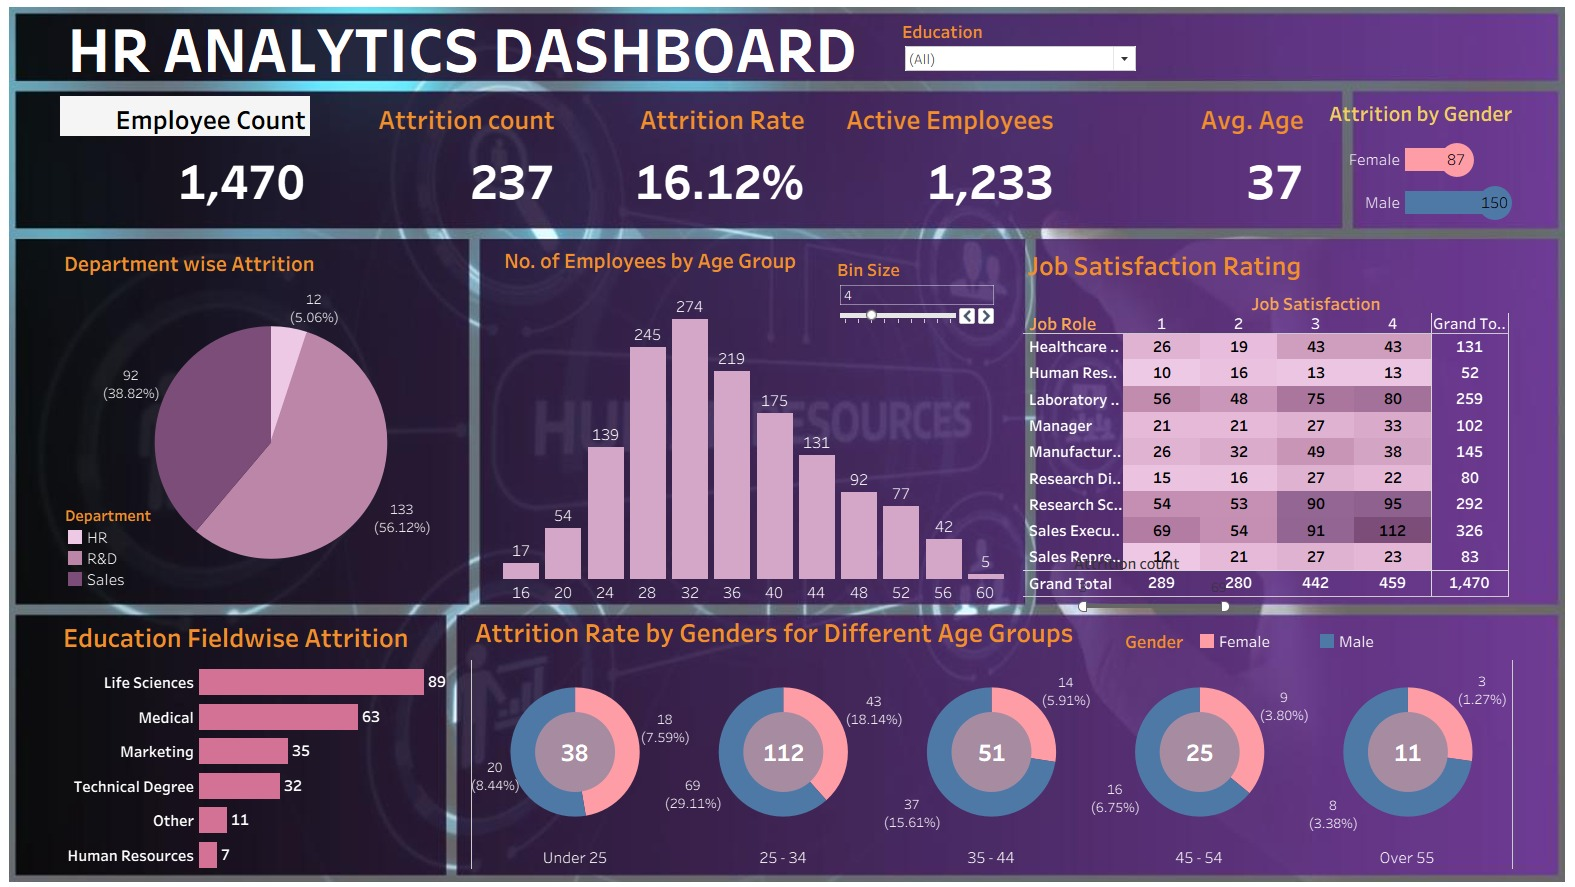

The page's visual inventory and layout, read from the dashboard file:
{"tool":"tableau","page":{"name":"HR ANALYTICS DASHBOARD","canvas":[1000,1000],"units":"permille","ordinal":0},"visuals":[{"type":"image","param":"C:/Users/ASUS/Downloads/HR background.pptx.jpg","box":[5.1,9.4,989.9,981.2]},{"type":"text","box":[42.4,25.8,546.8,64.5]},{"type":"filter","title":"Department wise Attrition","param":"[federated.187kph103az8hl1gv0l2p1qsw0fo].[none:Education:nk]","box":[572.8,27,150,61]},{"type":"worksheet","title":"Attrition by Gender","mark":"Automatic","rows":["Gender"],"cols":["Calculation_0866152895045632","Calculation_0866152895045632"],"box":[840.5,111.5,121.5,143.2]},{"type":"worksheet","title":"KPI","mark":"Automatic","box":[39.9,112.7,789.9,142]},{"type":"worksheet","title":"No. of Employees by Age Group","mark":"Bar","rows":["Employee Count"],"cols":["Age (bin)"],"box":[318.4,274.7,321.5,402.6]},{"type":"worksheet","title":"Job Satisfaction Rating","mark":"Square","rows":["Job Role"],"cols":["Job Satisfaction"],"box":[649.4,277,307.6,392]},{"type":"worksheet","title":"Department wise Attrition","mark":"Pie","box":[39.9,278.2,267.1,390.9]},{"type":"parameter","param":"[Parameters].[Parameter 1]","box":[531.6,291.1,101.3,83.3]},{"type":"legend","title":"Department wise Attrition","param":"[federated.187kph103az8hl1gv0l2p1qsw0fo].[none:Department:nk]","box":[43,566.9,70.2,104.5]},{"type":"filter","title":"Attrition Rate by Genders for Different Age Groups","param":"[federated.187kph103az8hl1gv0l2p1qsw0fo].[sum:Calculation_0866152895045632:qk]","box":[681.6,619.7,101.3,76.3]},{"type":"worksheet","title":"Attrition Rate by Genders for Different Age Groups","mark":"Pie","rows":["Calculation_0866152919699460","Calculation_0866152919699460"],"cols":["CF_age band"],"box":[300,684.3,659.5,287.6]},{"type":"worksheet","title":"Education Fieldwise Attrition","mark":"Automatic","rows":["Education Field"],"cols":["Calculation_0866152895045632"],"box":[39.2,690.1,255.1,284]},{"type":"legend","title":"Attrition Rate by Genders for Different Age Groups","param":"[federated.187kph103az8hl1gv0l2p1qsw0fo].[none:Gender:nk]","box":[713.9,706.6,239.2,35.2]}]}

Visuals, with their boxes on the dashboard's canvas, which has no fixed pixel size, in thousandths of its width and height (x1, y1, x2, y2). These are canvas units, not pixel positions in the 1575x887 screenshot, which may show the page scaled, cropped or inside an application window:
image: locate(5, 9, 995, 991)
text: locate(42, 26, 589, 90)
"Department wise Attrition" filter: locate(573, 27, 723, 88)
"Attrition by Gender" worksheet: locate(840, 112, 962, 255)
"KPI" worksheet: locate(40, 113, 830, 255)
"No. of Employees by Age Group" worksheet (Bar marks): locate(318, 275, 640, 677)
"Job Satisfaction Rating" worksheet (Square marks): locate(649, 277, 957, 669)
"Department wise Attrition" worksheet (Pie marks): locate(40, 278, 307, 669)
parameter: locate(532, 291, 633, 374)
"Department wise Attrition" legend: locate(43, 567, 113, 671)
"Attrition Rate by Genders for Different Age Groups" filter: locate(682, 620, 783, 696)
"Attrition Rate by Genders for Different Age Groups" worksheet (Pie marks): locate(300, 684, 960, 972)
"Education Fieldwise Attrition" worksheet: locate(39, 690, 294, 974)
"Attrition Rate by Genders for Different Age Groups" legend: locate(714, 707, 953, 742)
